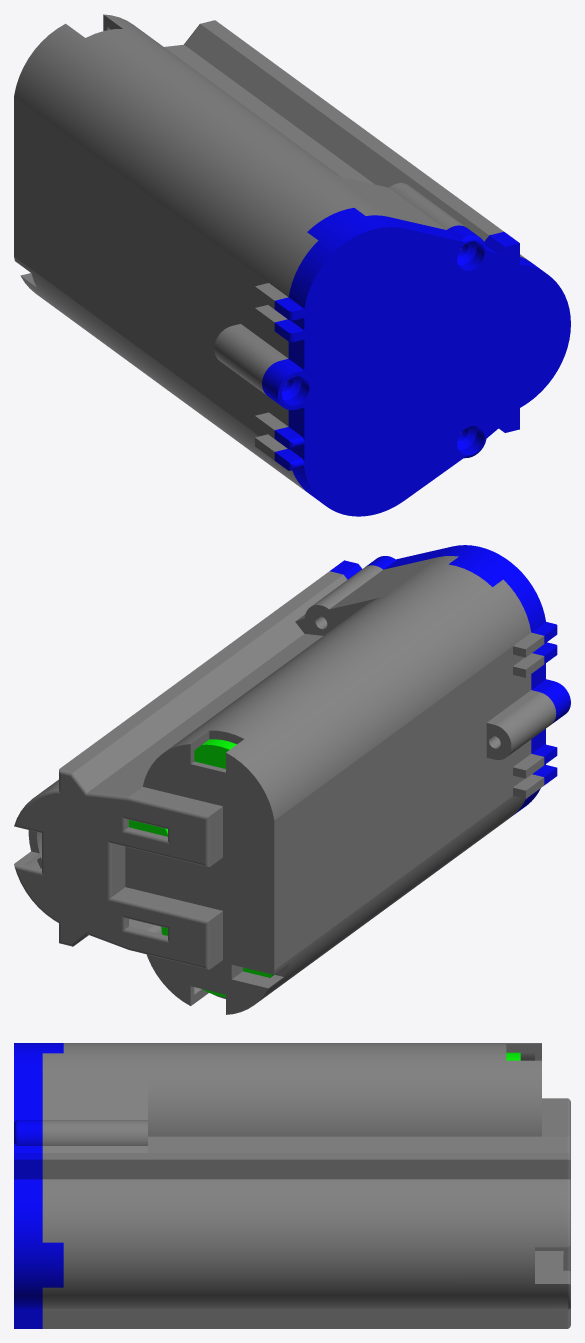
Rendered from 3CellBattery_GudeLGAP12-2020.obj.
The picture shows the model from 3 angles, top to bottom: view 1: azimuth 30°, elevation 25°; view 2: azimuth 150°, elevation 25°; view 3: azimuth 270°, elevation 25°; orthographic projection. The views are drawn at different scales.
Visible parts, largest first — view 1: CellsSleeve\CellsSleeve, BatteryPack-Cap\BatteryPack-Cap\BatteryPack-Cover; view 2: CellsSleeve\CellsSleeve, BatteryPack-Cap\BatteryPack-Cap\BatteryPack-Cover, Li-ION_3Cells\Li-ION-Cell\Li-ION-Cell (2); view 3: CellsSleeve\CellsSleeve, BatteryPack-Cap\BatteryPack-Cap\BatteryPack-Cover.
Boxes of the visible parts, x1,y1,x2,y2 form: CellsSleeve\CellsSleeve: (14,14,529,494); BatteryPack-Cap\BatteryPack-Cap\BatteryPack-Cover: (262,208,570,516); CellsSleeve\CellsSleeve: (14,556,556,1014); BatteryPack-Cap\BatteryPack-Cap\BatteryPack-Cover: (330,545,570,815); Li-ION_3Cells\Li-ION-Cell\Li-ION-Cell (2): (194,739,236,768); CellsSleeve\CellsSleeve: (42,1043,570,1328); BatteryPack-Cap\BatteryPack-Cap\BatteryPack-Cover: (14,1043,63,1328).
Bounding box in the file's own units: 42.82 × 39.87 × 77.5.
